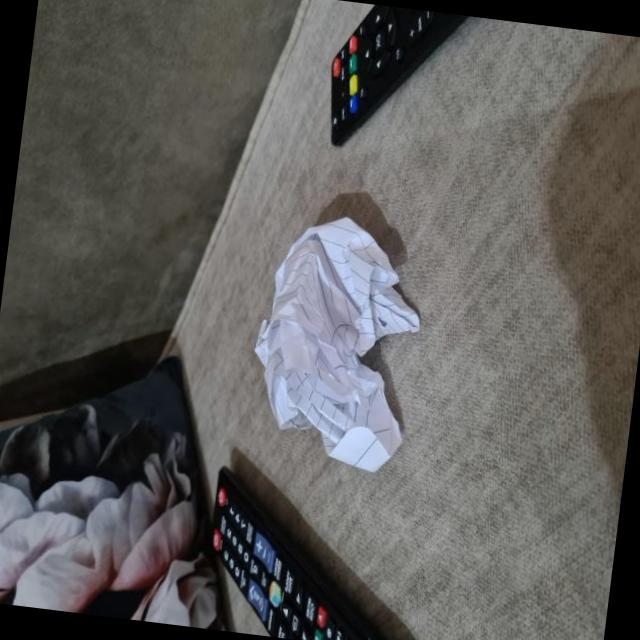cardboard paper: (253, 216, 416, 469)
